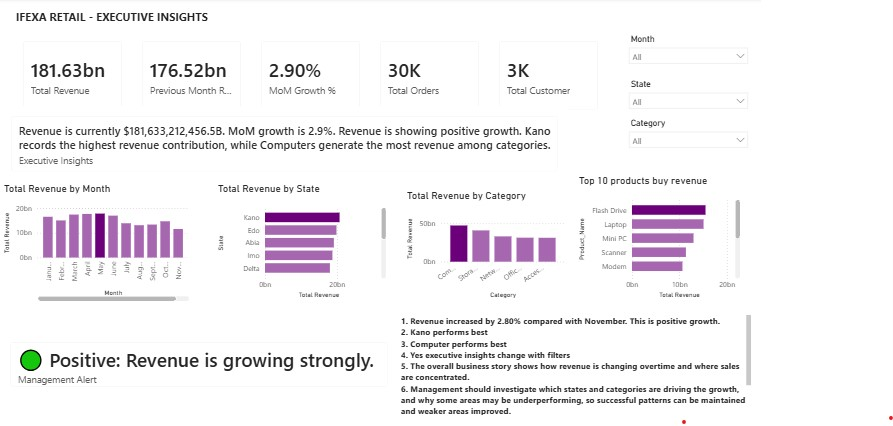

The page's visual inventory and layout, read from the dashboard file:
{"tool":"powerbi","page":{"name":"Dynamic Executive Insight Dashboard","canvas":[1280,720],"ordinal":4},"visuals":[{"type":"textbox","box":[21.6,13,365.8,41.8],"z":0},{"type":"cardVisual","fields":{"Data":["Dim_Customers.Total Revenue"]},"box":[21.8,55.4,200.2,149.8],"z":1000},{"type":"cardVisual","fields":{"Data":["Dim_Customers.Previous Month Revenue"]},"box":[221.7,55.4,200.2,149.8],"z":2000},{"type":"cardVisual","fields":{"Data":["Dim_Customers.MoM Growth %"]},"box":[421.6,55.4,200.2,149.8],"z":3000},{"type":"cardVisual","fields":{"Data":["Dim_Customers.Total Orders"]},"box":[621.5,55.4,200.2,149.8],"z":4000},{"type":"cardVisual","fields":{"Data":["Dim_Customers.Total Customer"]},"box":[821.4,55.4,200.2,149.8],"z":5000},{"type":"clusteredColumnChart","fields":{"Y":["Dim_Customers.Total Revenue"],"Category":["Dim_Customers.Join_Date.Variation.Date Hierarchy.Month"]},"box":[1.7,309.1,320.8,204.9],"z":7000},{"type":"barChart","title":"Top 10 products buy revenue","fields":{"Y":["Dim_Customers.Total Revenue"],"Category":["Dim_Products.Product_Name"]},"box":[967.6,295.6,280.5,213.3],"z":8000},{"type":"clusteredColumnChart","fields":{"Y":["Dim_Customers.Total Revenue"],"Category":["Dim_Products.Category"]},"box":[678.6,320.8,275.5,188.1],"z":9000},{"type":"barChart","fields":{"Category":["Dim_Customers.State"],"Y":["Dim_Customers.Total Revenue"]},"box":[361.2,309.1,292.3,199.9],"z":10000},{"type":"cardVisual","fields":{"Data":["Dim_Customers.Executive Insights"]},"box":[1.7,181.4,952.4,127.7],"z":10001},{"type":"slicer","fields":{"Values":["Dim_Products.Category"]},"box":[1046.5,196.5,220.1,63.8],"z":10002},{"type":"slicer","fields":{"Values":["Dim_Customers.State"]},"box":[1046.5,131,220.1,65.5],"z":10003},{"type":"slicer","fields":{"Values":["Dim_Customers.Join_Date.Variation.Date Hierarchy.Month"]},"box":[1046.5,55.4,220.1,75.6],"z":10004},{"type":"cardVisual","fields":{"Data":["Dim_Customers.Management Alert"]},"box":[0,561,668.6,109.2],"z":10005},{"type":"textbox","box":[668.6,527.5,598,178.1],"z":10006}]}

Visuals, with their boxes on the page's 1280x720 design canvas (x1, y1, x2, y2). These are canvas units, not pixel positions in the 893x426 screenshot, which may show the page scaled, cropped or inside an application window:
textbox: detection(22, 13, 387, 55)
cardVisual - Dim_Customers.Total Revenue: detection(22, 55, 222, 205)
cardVisual - Dim_Customers.Previous Month Revenue: detection(222, 55, 422, 205)
cardVisual - Dim_Customers.MoM Growth %: detection(422, 55, 622, 205)
cardVisual - Dim_Customers.Total Orders: detection(622, 55, 822, 205)
cardVisual - Dim_Customers.Total Customer: detection(821, 55, 1022, 205)
clusteredColumnChart - Dim_Customers.Total Revenue x Dim_Customers.Join_Date.Variation.Date Hierarchy.Month: detection(2, 309, 322, 514)
"Top 10 products buy revenue" barChart: detection(968, 296, 1248, 509)
clusteredColumnChart - Dim_Customers.Total Revenue x Dim_Products.Category: detection(679, 321, 954, 509)
barChart - Dim_Customers.State x Dim_Customers.Total Revenue: detection(361, 309, 654, 509)
cardVisual - Dim_Customers.Executive Insights: detection(2, 181, 954, 309)
slicer - Dim_Products.Category: detection(1046, 196, 1267, 260)
slicer - Dim_Customers.State: detection(1046, 131, 1267, 196)
slicer - Dim_Customers.Join_Date.Variation.Date Hierarchy.Month: detection(1046, 55, 1267, 131)
cardVisual - Dim_Customers.Management Alert: detection(0, 561, 669, 670)
textbox: detection(669, 528, 1267, 706)
